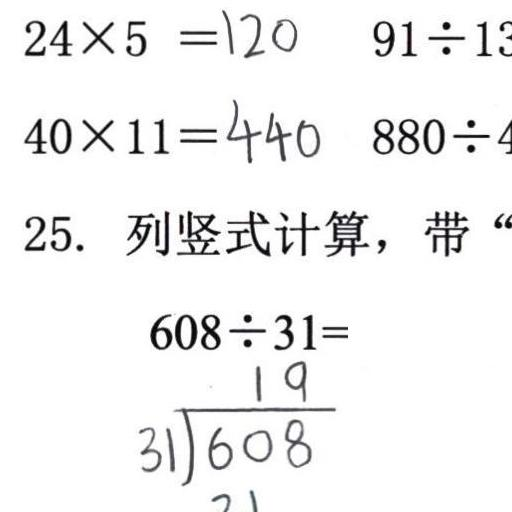ans: (220, 95, 320, 164), (217, 4, 297, 59)
